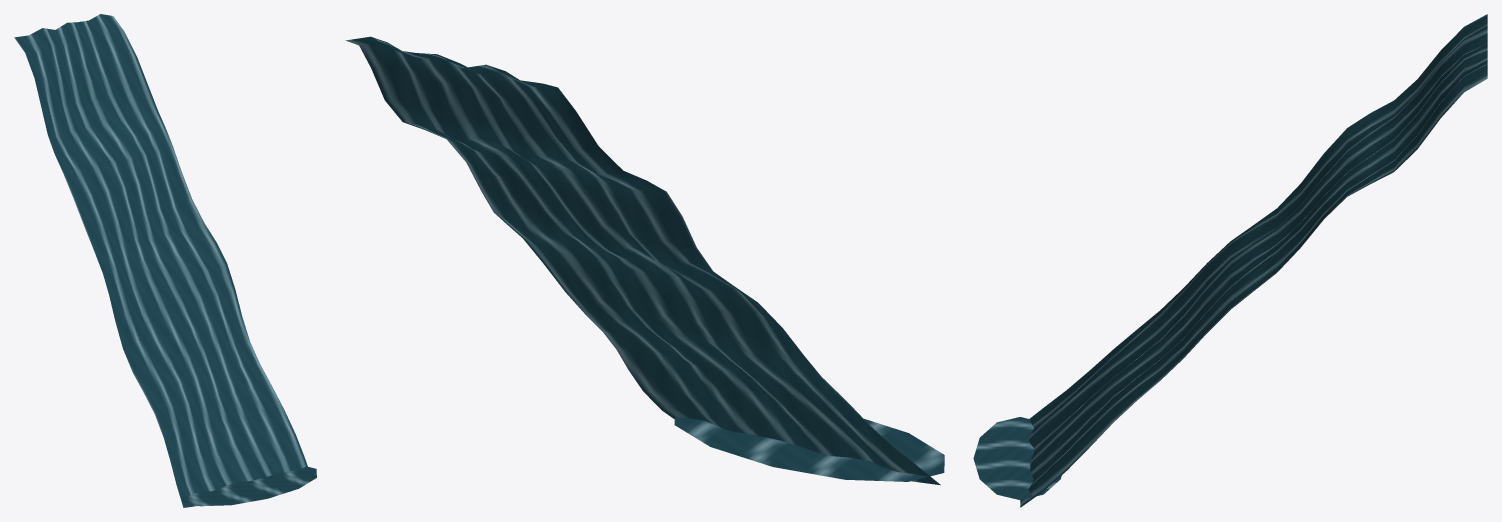
Rendered from cascade-wide-lod0.glb.
3 renders of one model, left to right at view 1: azimuth 30°, elevation 25°; view 2: azimuth 150°, elevation 25°; view 3: azimuth 270°, elevation 25°, orthographic. The views are drawn at different scales.
Size of the model in its own units: 0.4224 by 1.01 by 1.1.
1 material, 1 textured.
